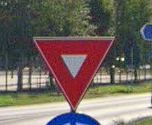cedeaza: (29, 31, 117, 112)
